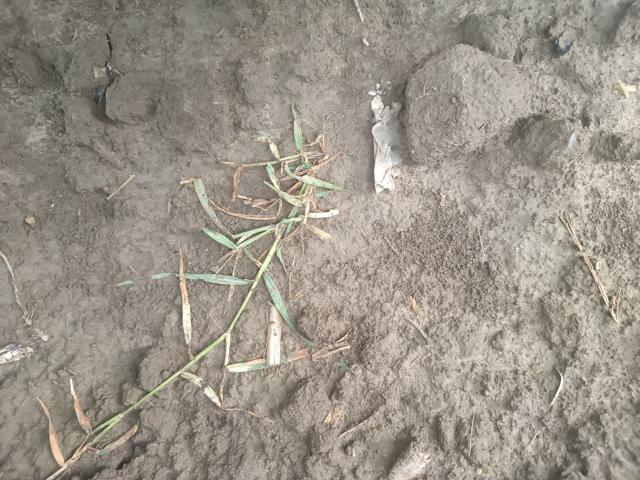bad weed: (51, 130, 373, 473)
